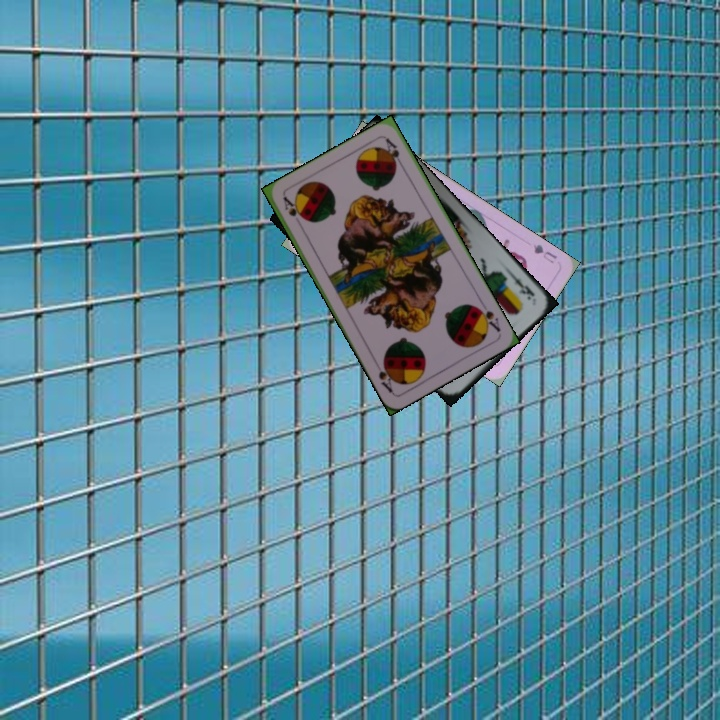EK: (506, 269, 537, 303)
GU: (529, 240, 560, 266)
SA: (471, 302, 503, 335), (279, 193, 305, 222)
